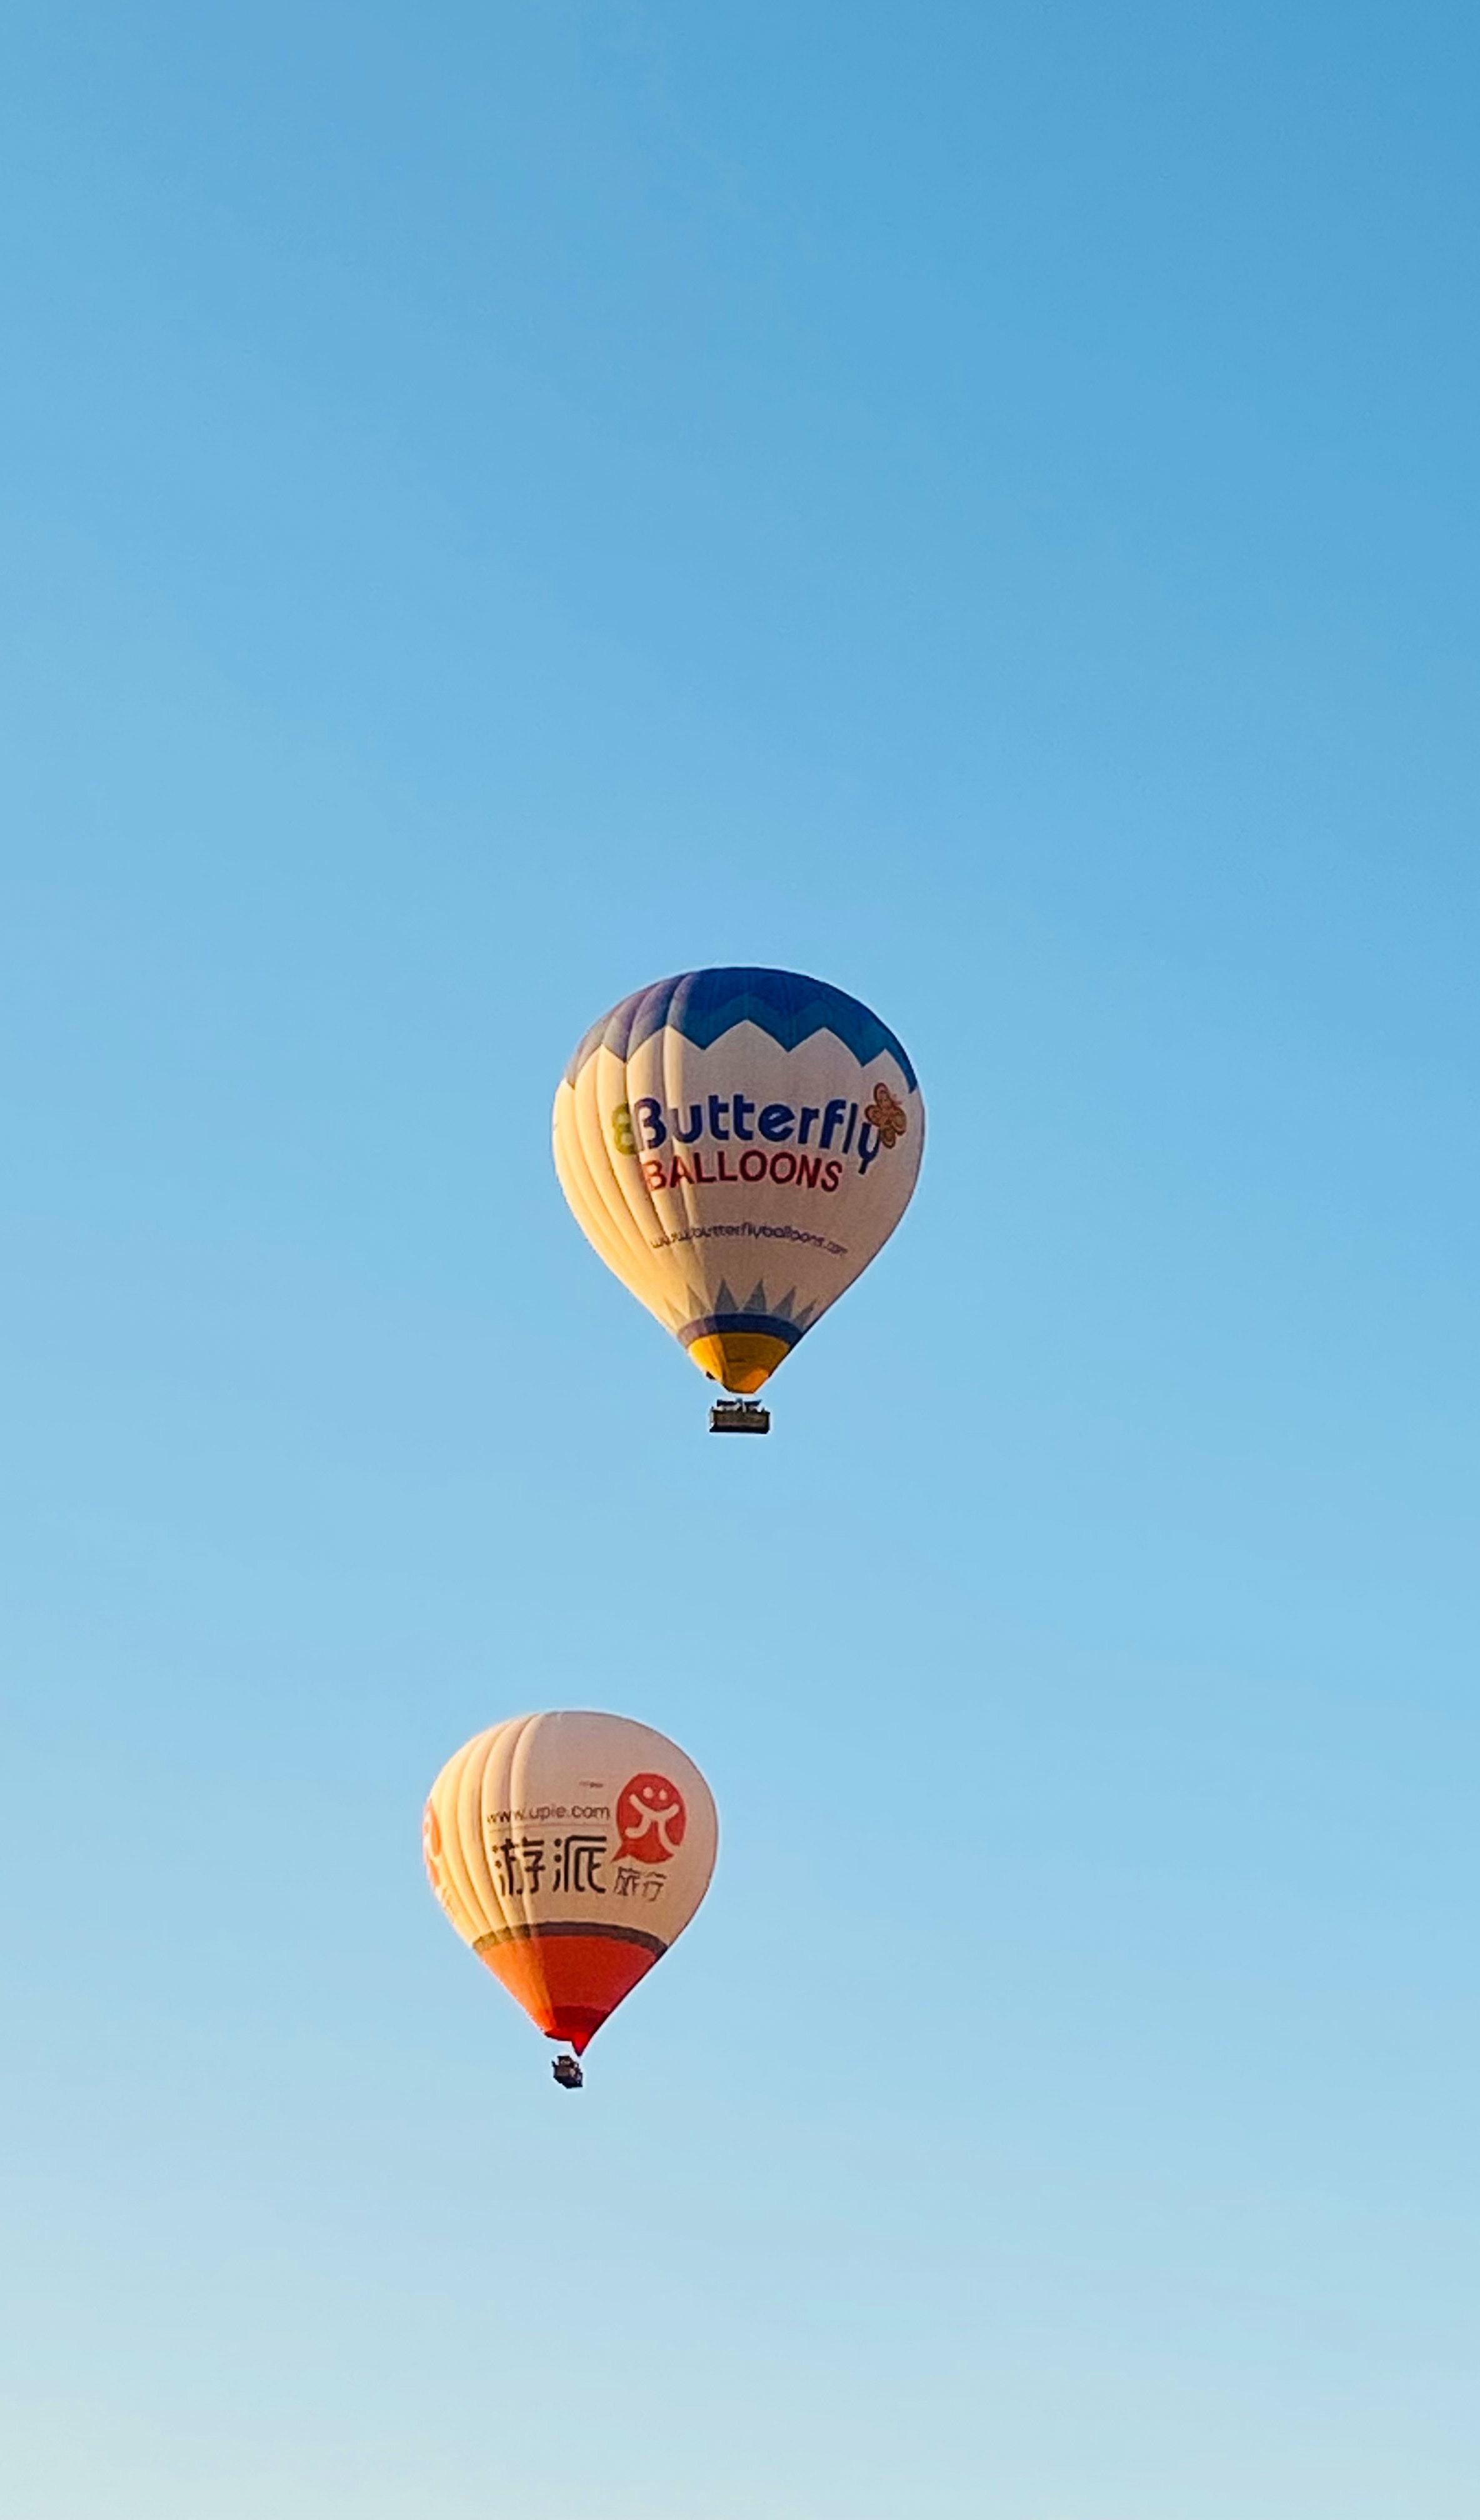hot air ballon: (550, 963, 925, 1432), (419, 1708, 721, 2094)
